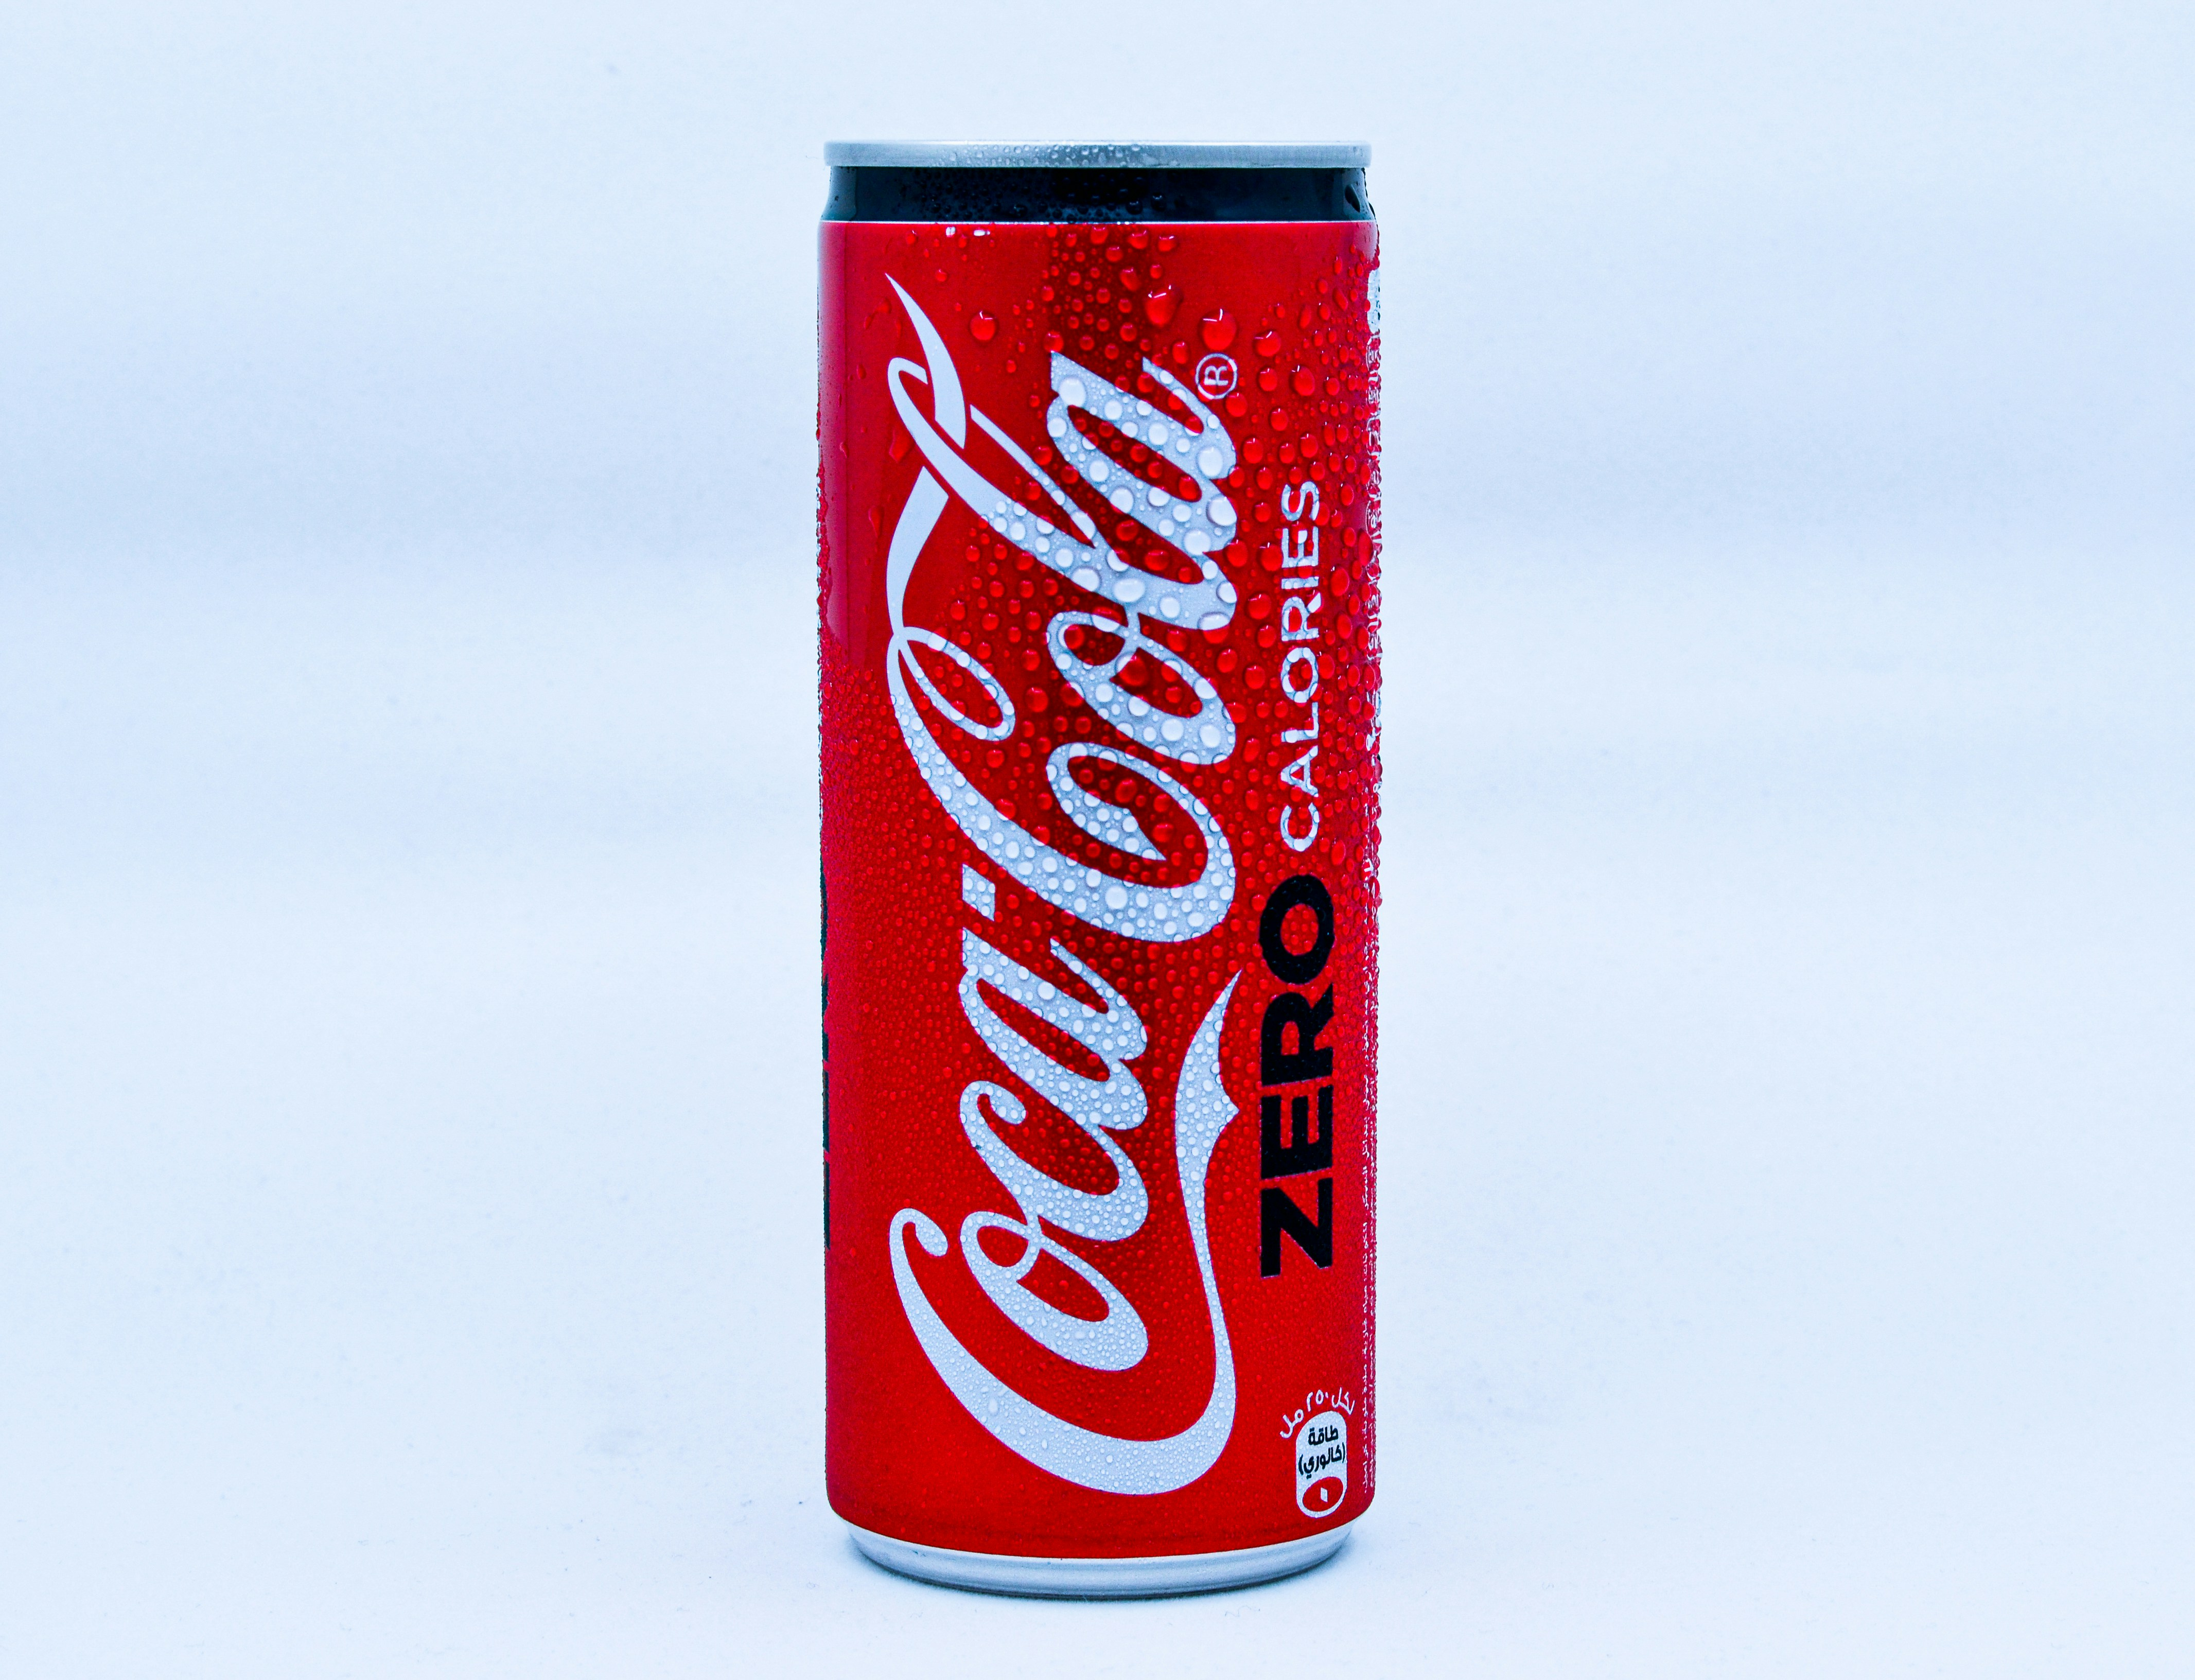COCOCOLA: (813, 143, 1380, 1595)
